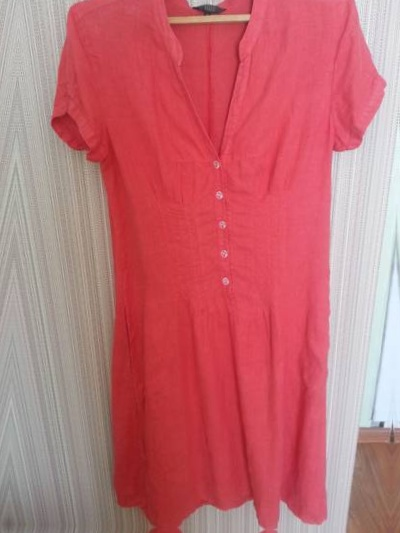Dress: (41, 0, 369, 518)
